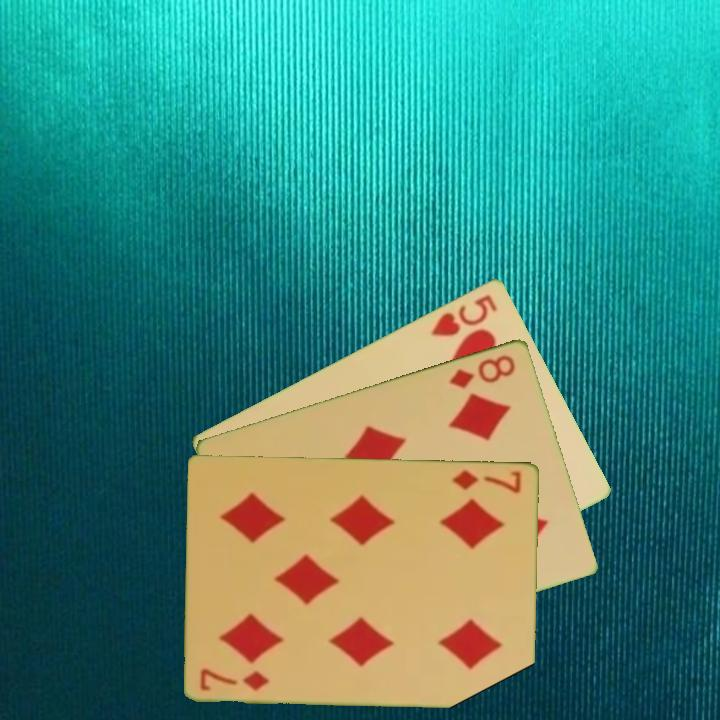5h: (428, 290, 500, 339)
7d: (197, 664, 273, 694), (450, 466, 524, 495)
8d: (446, 350, 519, 391)
